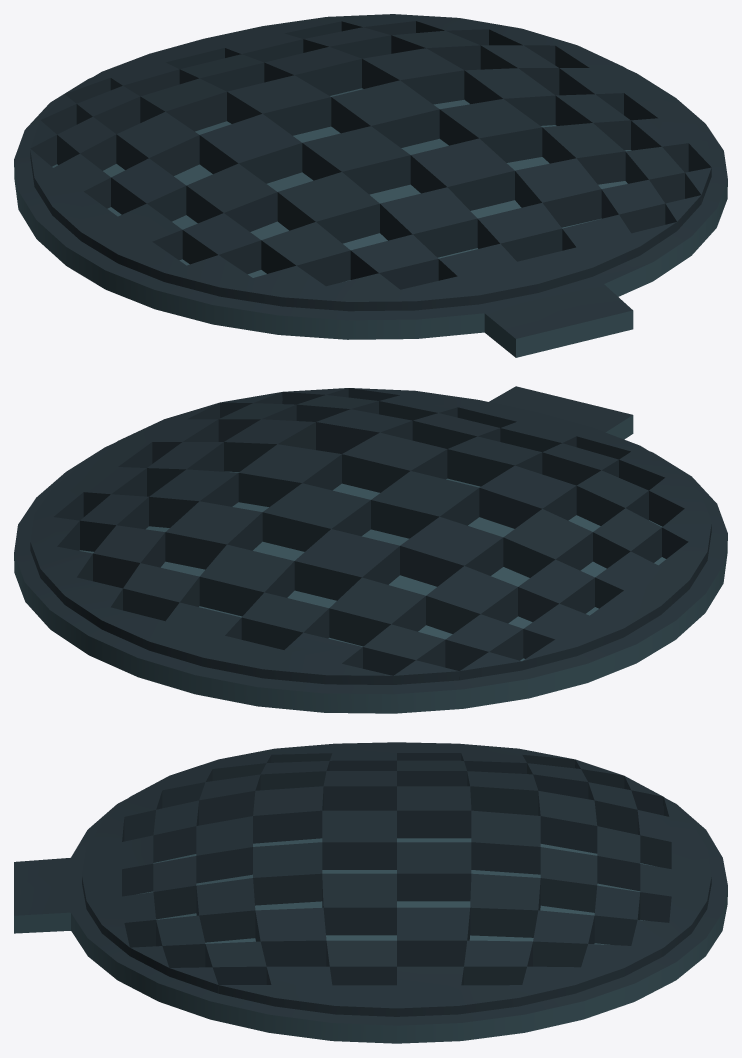
Rendered from hatch_3.fbx.
The picture shows the model from 3 angles, top to bottom: view 1: azimuth 30°, elevation 25°; view 2: azimuth 150°, elevation 25°; view 3: azimuth 270°, elevation 25°; orthographic projection. The views are drawn at different scales.
Parts seen in each view (by area): view 1: Cylinder.003; view 2: Cylinder.003; view 3: Cylinder.003.
Boxes of the visible parts, x1,y1,x2,y2 form: Cylinder.003: (14,14,727,357); Cylinder.003: (14,386,727,713); Cylinder.003: (14,742,727,1043).
Size of the model in its own units: 192 by 20.66 by 207.
